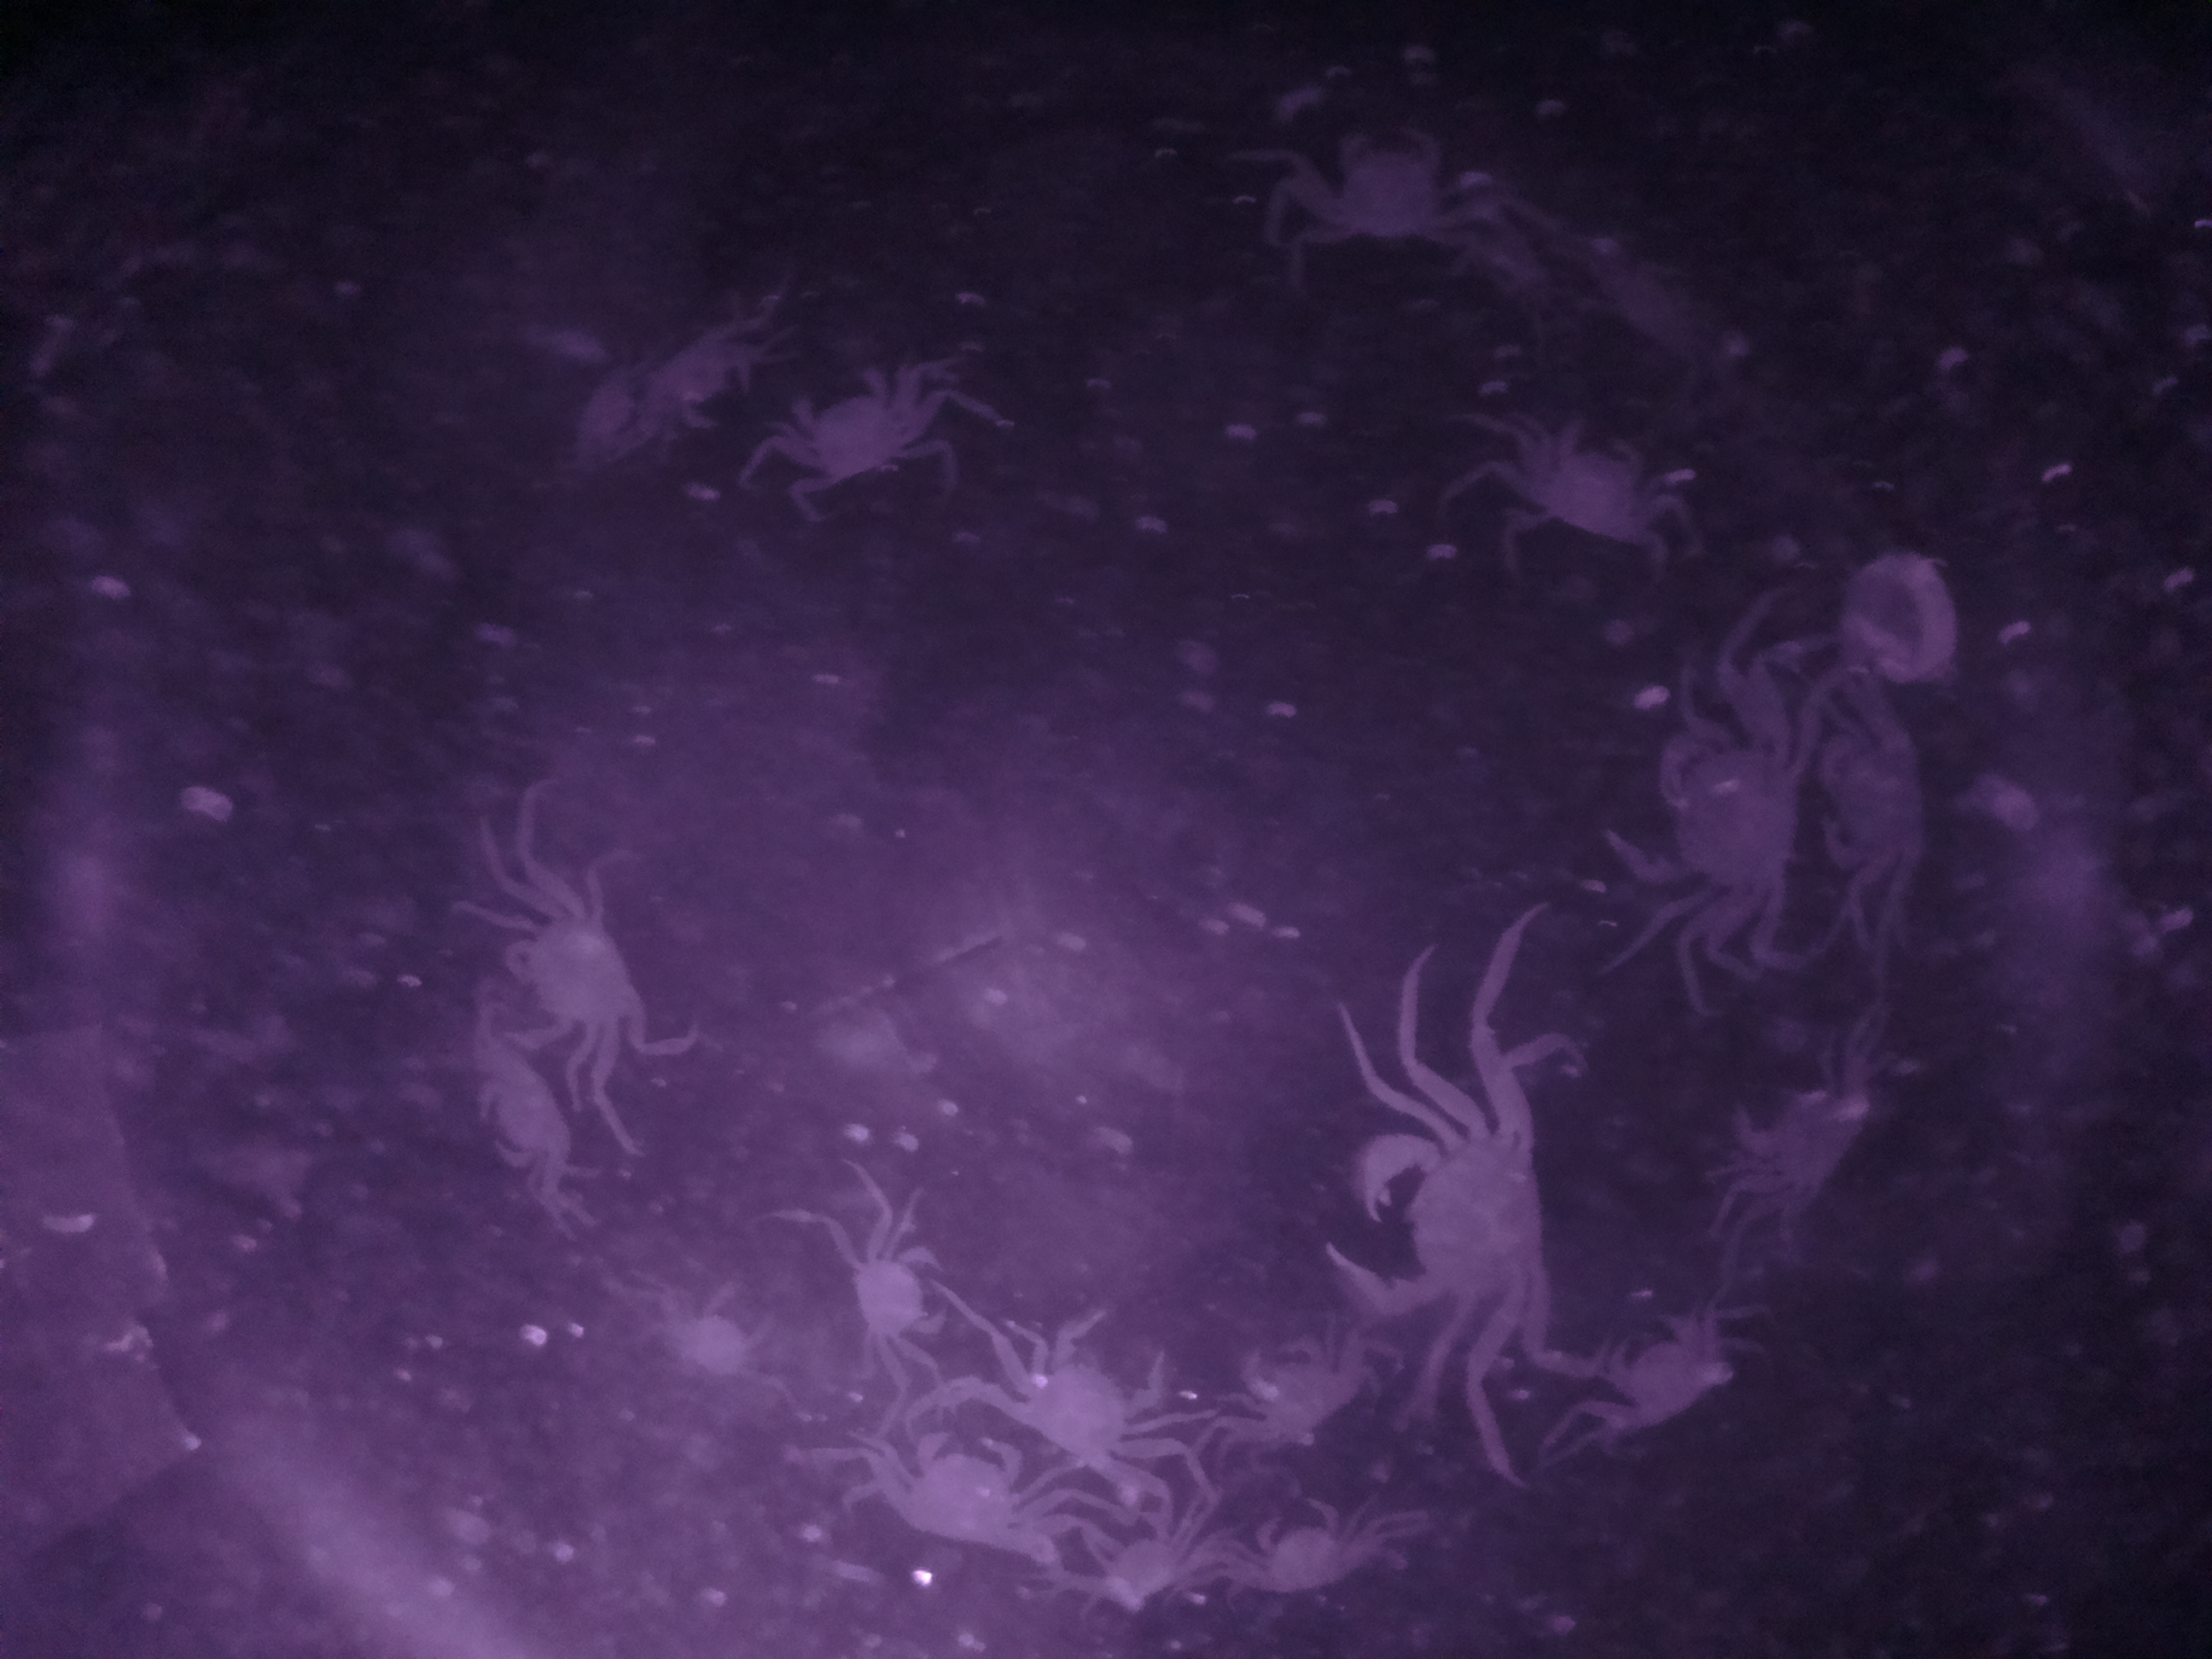Crab: (1308, 1121, 1559, 1344), (1602, 694, 1822, 932), (984, 1293, 1186, 1473), (495, 904, 678, 1056), (761, 359, 941, 505), (1313, 117, 1491, 256), (850, 1432, 1036, 1560), (1500, 425, 1676, 558), (1562, 1316, 1735, 1445), (827, 1227, 961, 1363), (456, 1040, 573, 1195), (1226, 1493, 1362, 1614)
